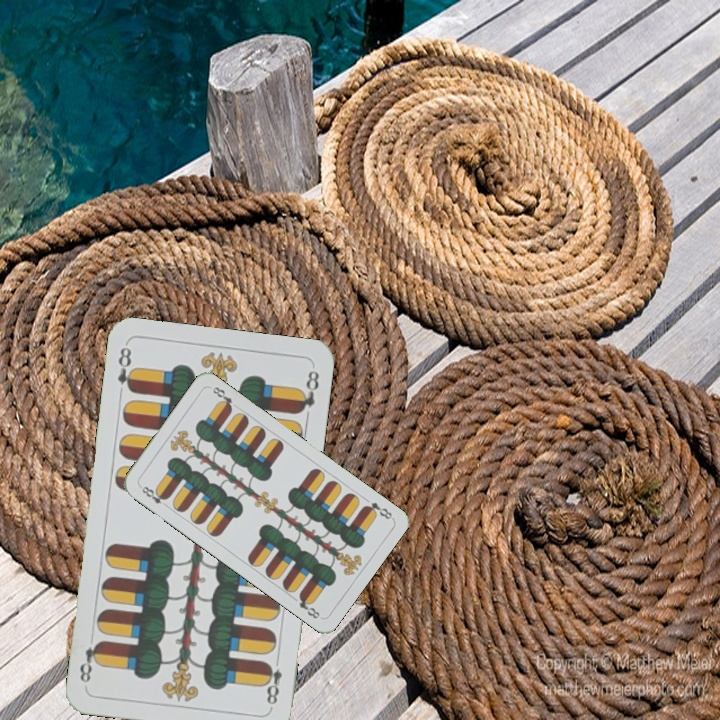E8: (260, 652, 285, 711), (113, 343, 138, 396), (136, 481, 170, 507), (359, 498, 395, 522)
